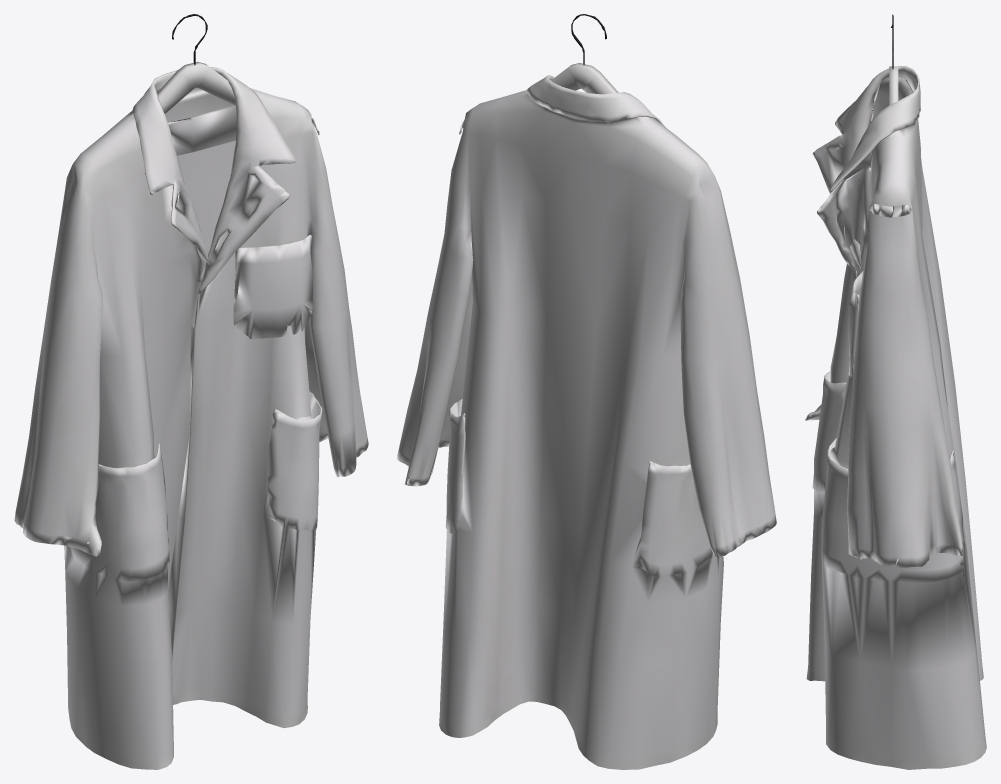
3 renders of one model, left to right at view 1: azimuth 30°, elevation 25°; view 2: azimuth 150°, elevation 25°; view 3: azimuth 270°, elevation 25°, orthographic. The views are drawn at different scales.
Visible parts, largest first — view 1: tripo_node_422e1c40-44bc-4427-9e86-e88cd82a7395; view 2: tripo_node_422e1c40-44bc-4427-9e86-e88cd82a7395; view 3: tripo_node_422e1c40-44bc-4427-9e86-e88cd82a7395.
Part boxes in pixels (x1,y1,x2,y2): tripo_node_422e1c40-44bc-4427-9e86-e88cd82a7395: (14,14,368,769); tripo_node_422e1c40-44bc-4427-9e86-e88cd82a7395: (397,14,776,769); tripo_node_422e1c40-44bc-4427-9e86-e88cd82a7395: (805,14,986,769).
Size of the model in its own units: 0.5215 by 0.998 by 0.2363.
Materials: 1 (1 with a texture image).
